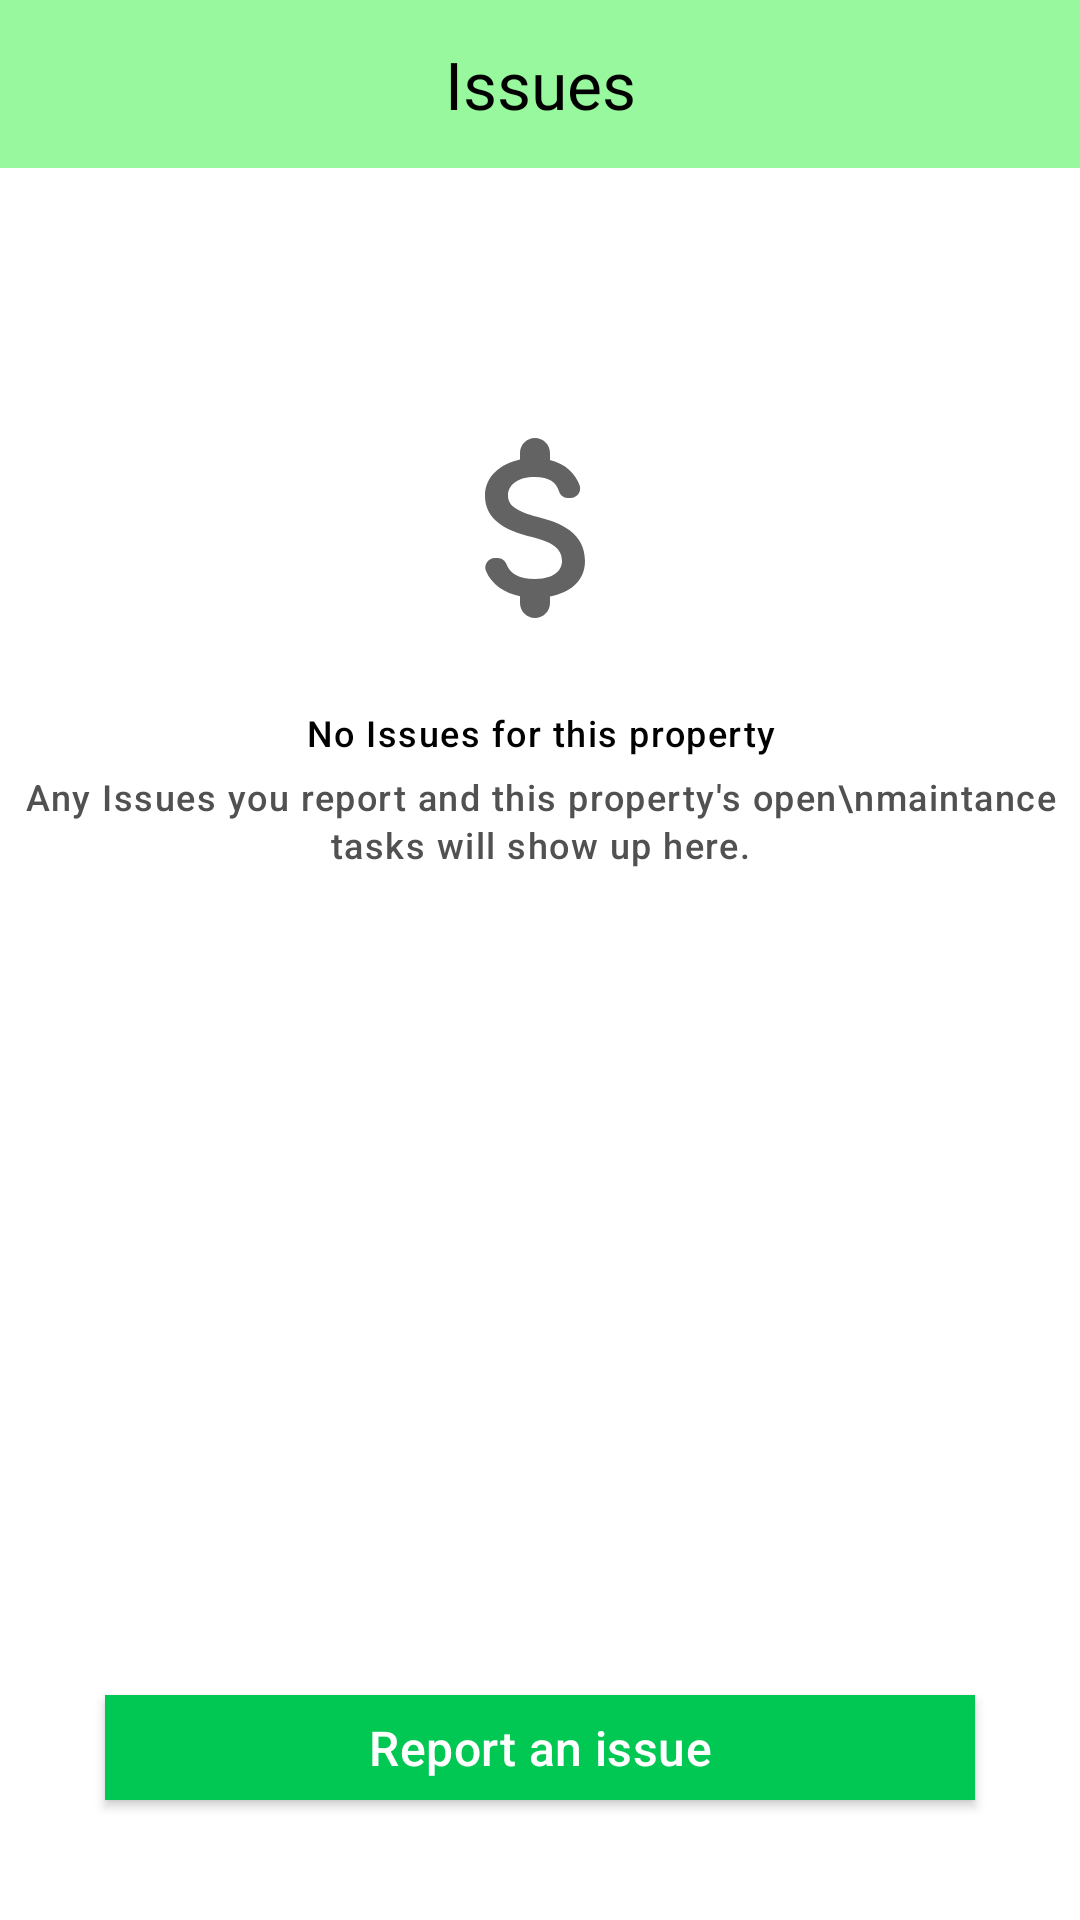

Point at icon controls on the screen. Image size 1080px×1920px, points as point (x, y).
attach money: point (535, 528)
